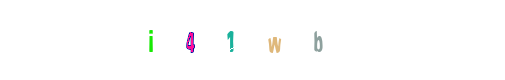1: (175, 0, 255, 80)
4: (150, 0, 230, 80)
B: (240, 0, 320, 80)
I: (111, 0, 191, 80)
W: (212, 0, 292, 80)
